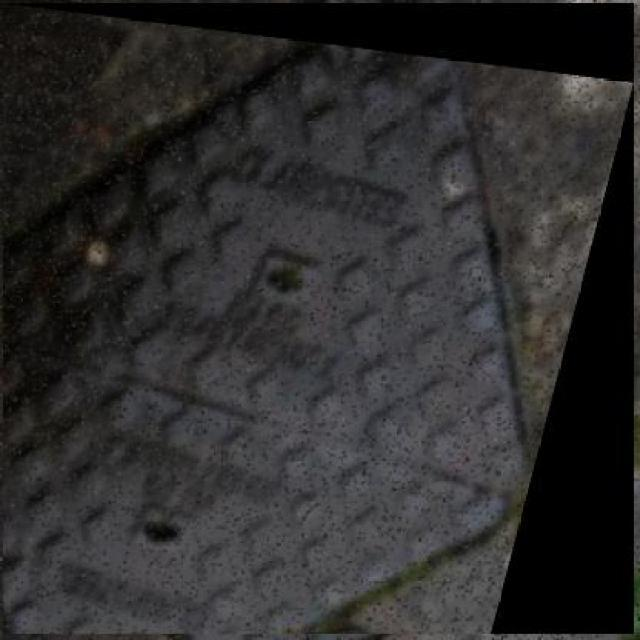Manhole: (3, 3, 634, 634)
